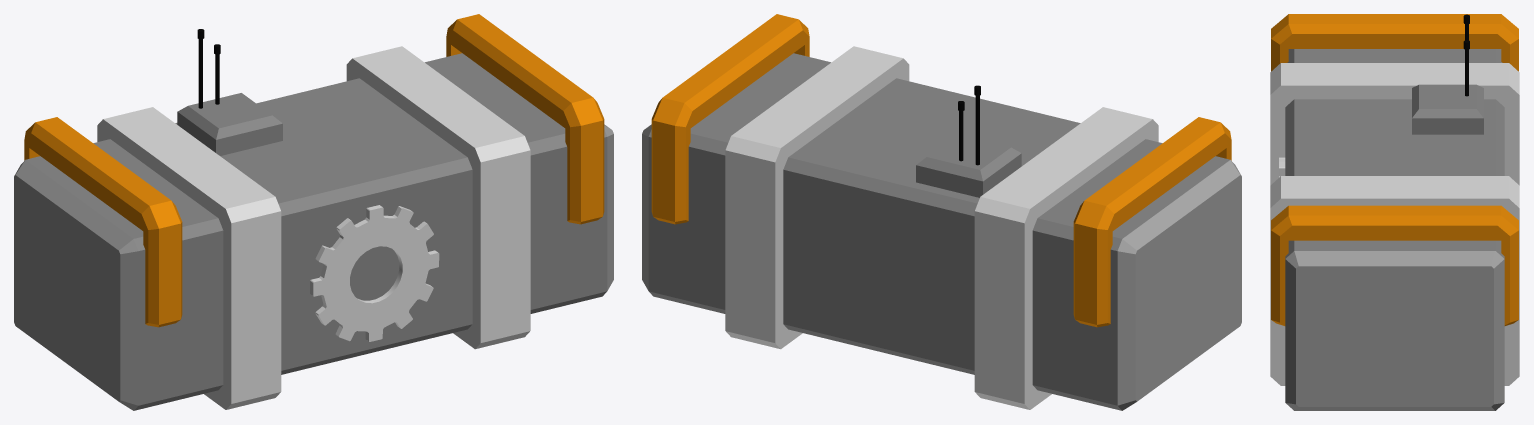
File: Repair_Crate.fbx
The picture shows the model from 3 angles, left to right: view 1: azimuth 30°, elevation 25°; view 2: azimuth 150°, elevation 25°; view 3: azimuth 270°, elevation 25°; orthographic projection. The views are drawn at different scales.
Visible parts, largest first — view 1: Single_Shape_Crate; view 2: Single_Shape_Crate; view 3: Single_Shape_Crate.
Part boxes in pixels (x1,y1,x2,y2): Single_Shape_Crate: (14,14,613,410); Single_Shape_Crate: (642,14,1241,410); Single_Shape_Crate: (1270,14,1519,410).
Bounding box in the file's own units: 7.37 × 4.11 × 3.46.
